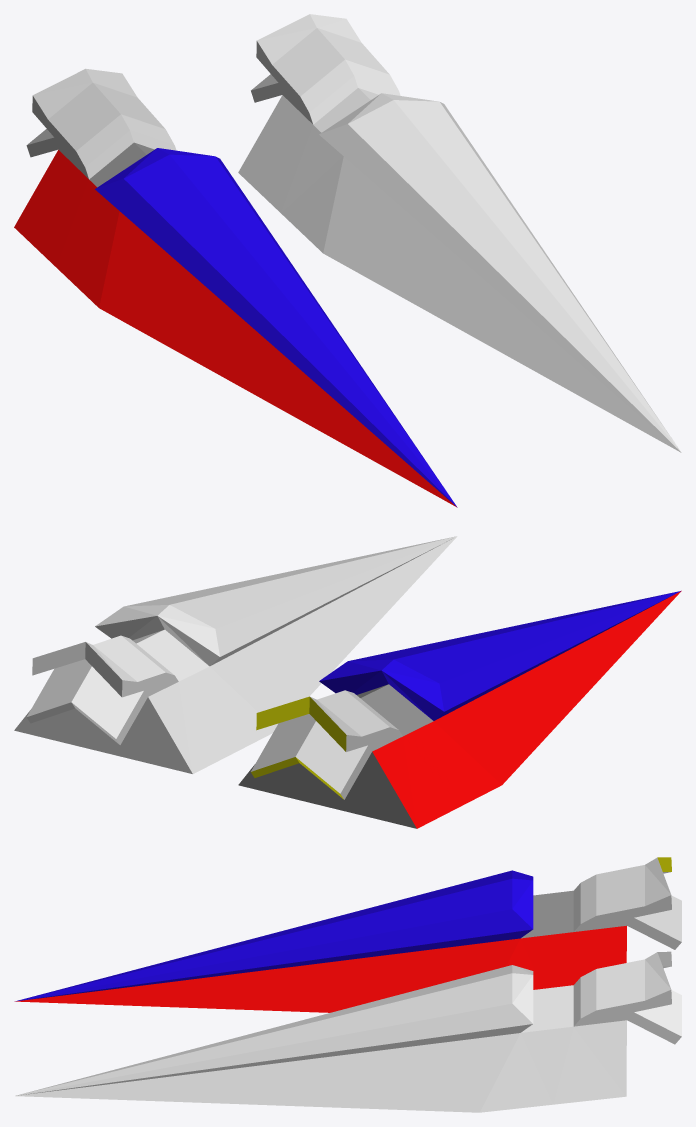
Rendered from carA.dae.
3 renders of one model, top to bottom at view 1: azimuth 30°, elevation 25°; view 2: azimuth 150°, elevation 25°; view 3: azimuth 270°, elevation 25°, orthographic. The views are drawn at different scales.
Visible parts, largest first — view 1: Cube_001, Cube; view 2: Cube, Cube_001; view 3: Cube_001, Cube.
Boxes of the visible parts, x1,y1,x2,y2 form: Cube_001: (238, 14, 681, 452); Cube: (14, 68, 457, 507); Cube: (238, 590, 681, 828); Cube_001: (14, 536, 457, 773); Cube_001: (15, 951, 681, 1112); Cube: (14, 857, 681, 1012).
Bounding box in the file's own units: 6.18 × 10.27 × 2.45.
